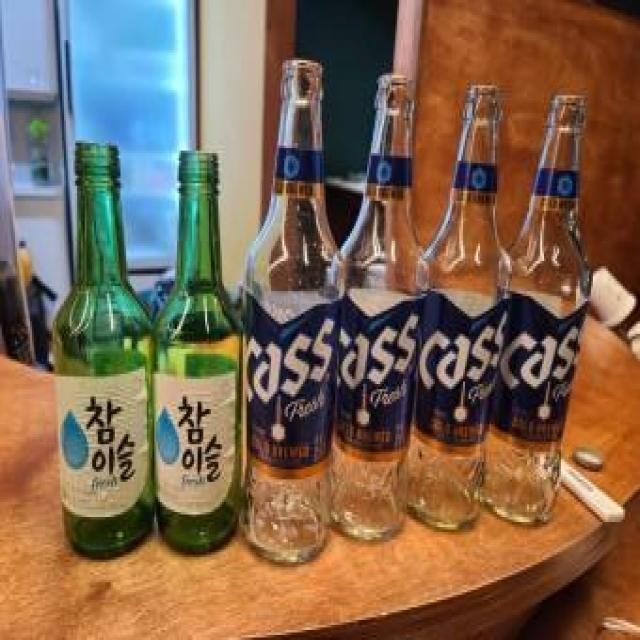beer-bottle: (492, 89, 605, 528), (414, 80, 523, 535), (243, 55, 335, 575), (340, 72, 424, 542)
soju-bottle: (54, 122, 160, 546), (152, 146, 244, 558)
